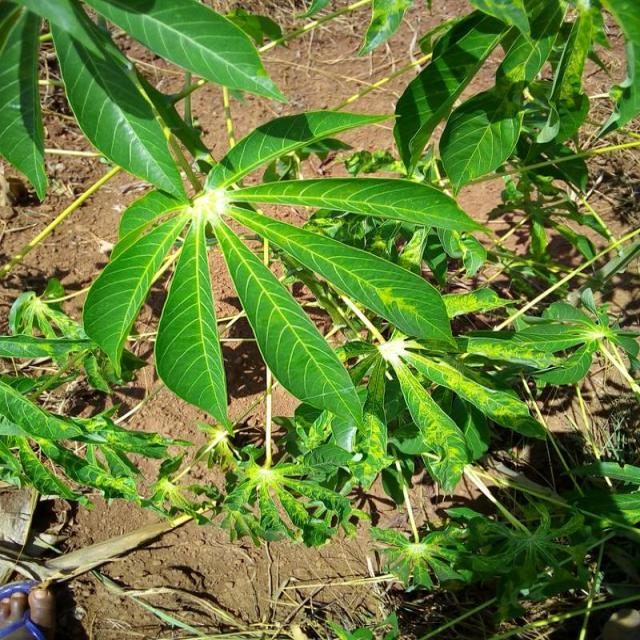cassava leaf: (210, 207, 367, 449), (85, 0, 290, 105), (154, 213, 234, 437)
